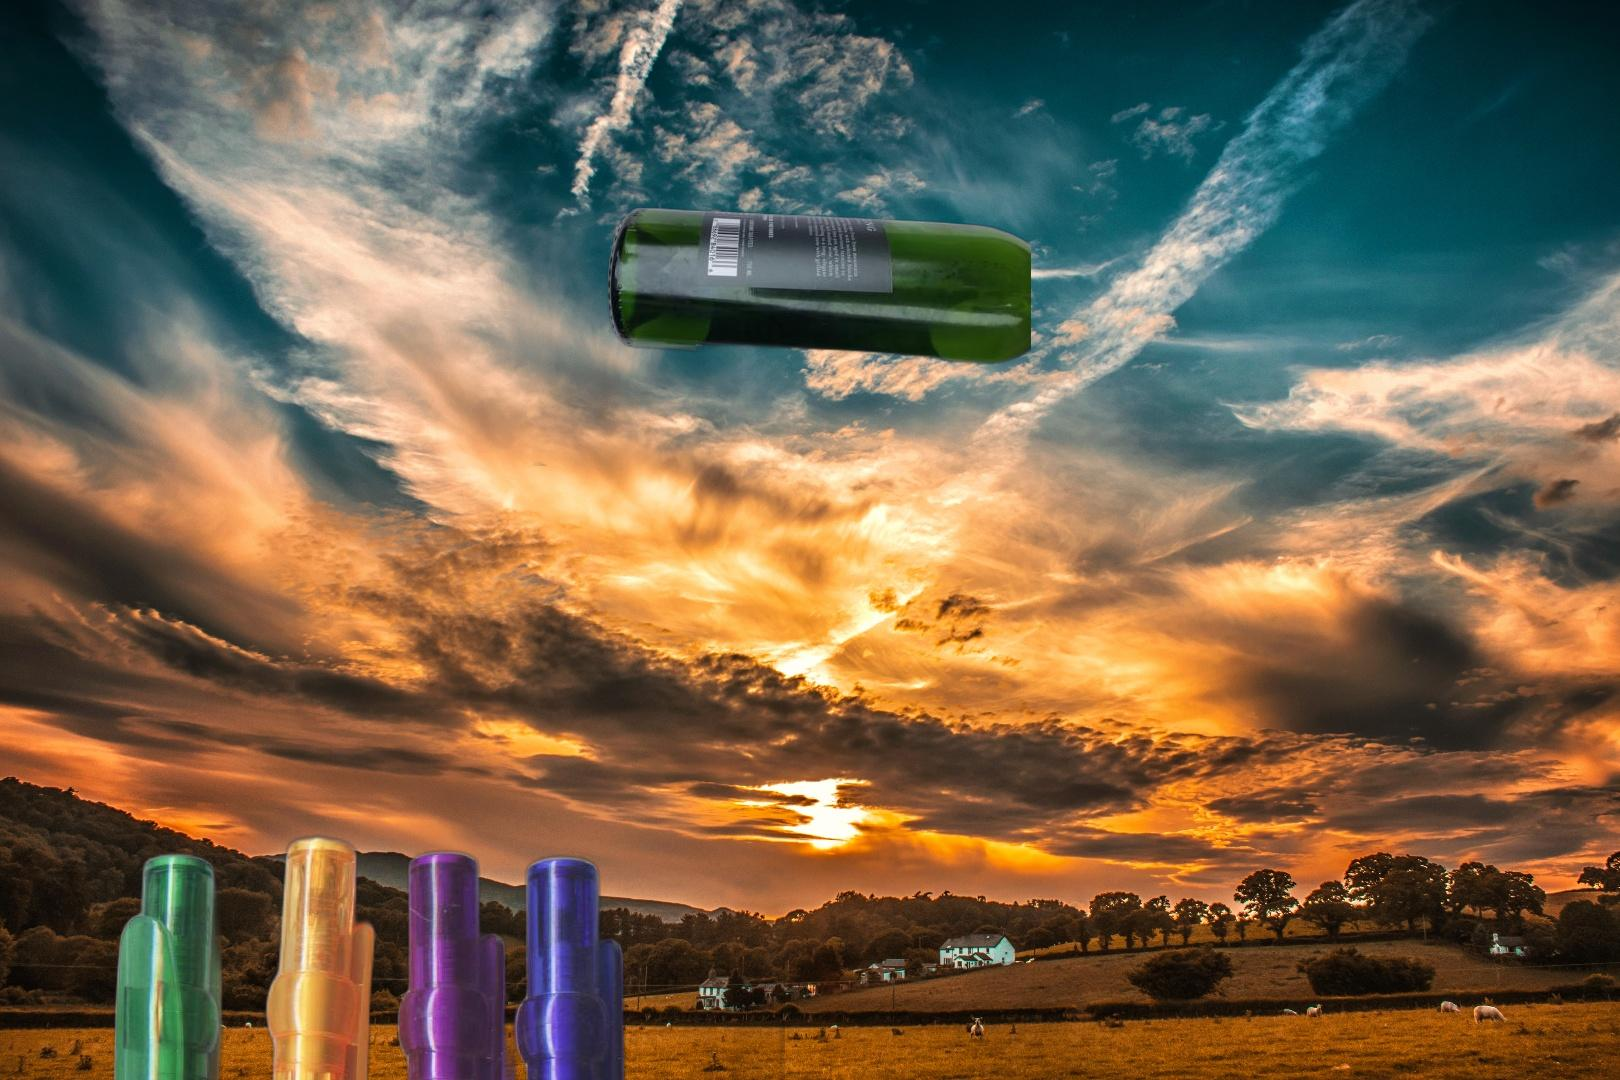glass: (520, 204, 1031, 466)
penholder: (93, 827, 785, 1080)
